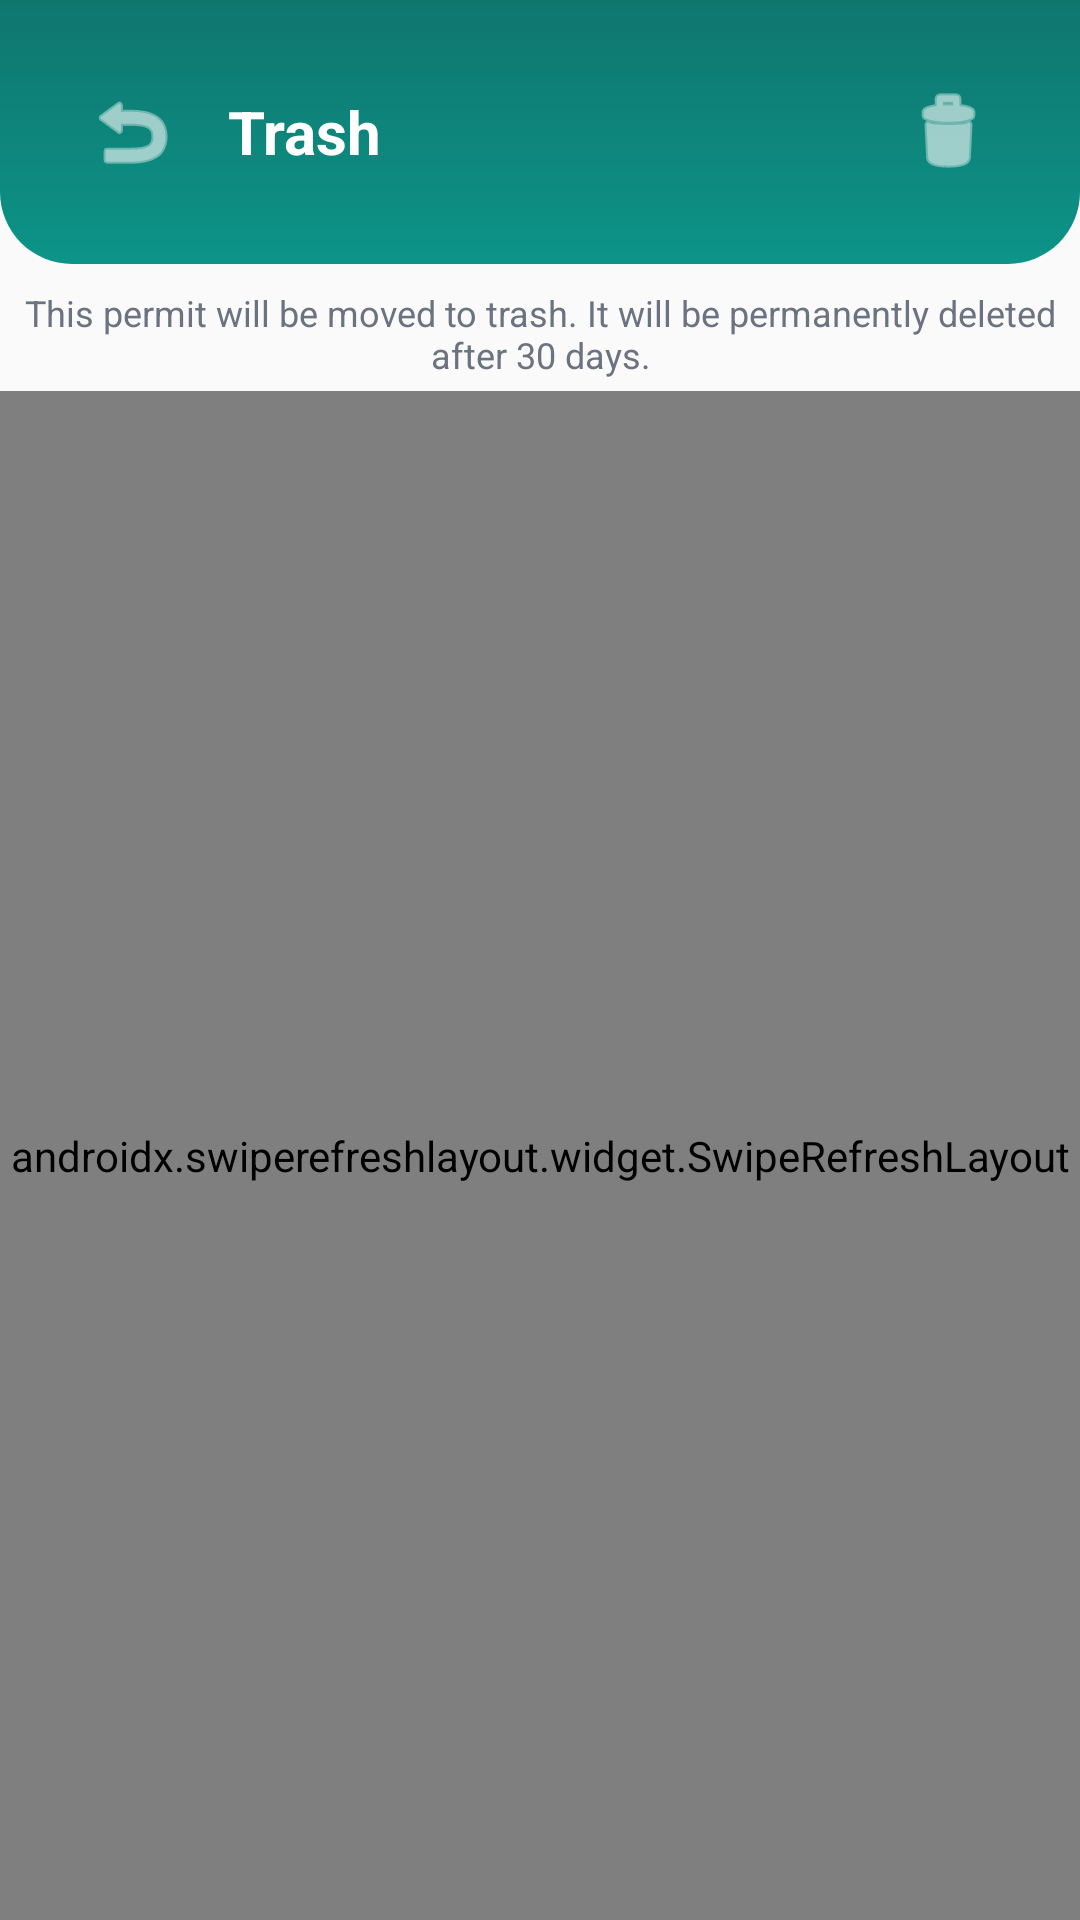

Named icons in this screenshot (1080*1920) and their bounding boxes, {"left": x1, "top": y1, "right": x2, "bottom": y2}:
revert: {"left": 99, "top": 101, "right": 168, "bottom": 164}
